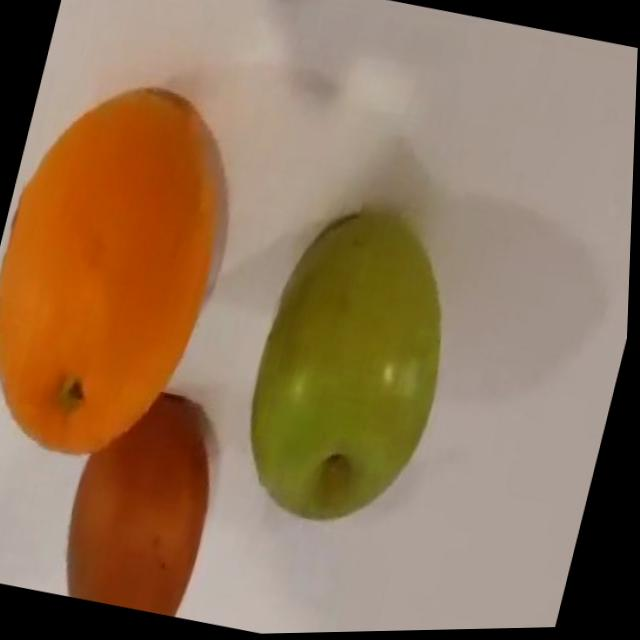Apple: (227, 192, 480, 542), (54, 378, 239, 621)
Orange: (0, 61, 264, 478)
